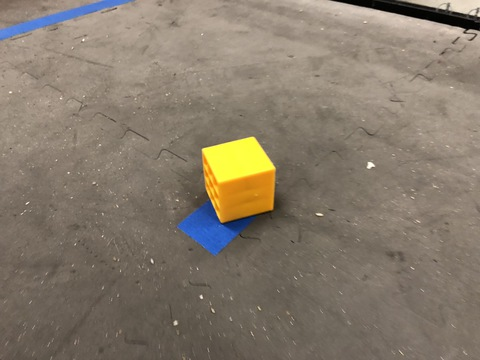block: (182, 126, 288, 239)
